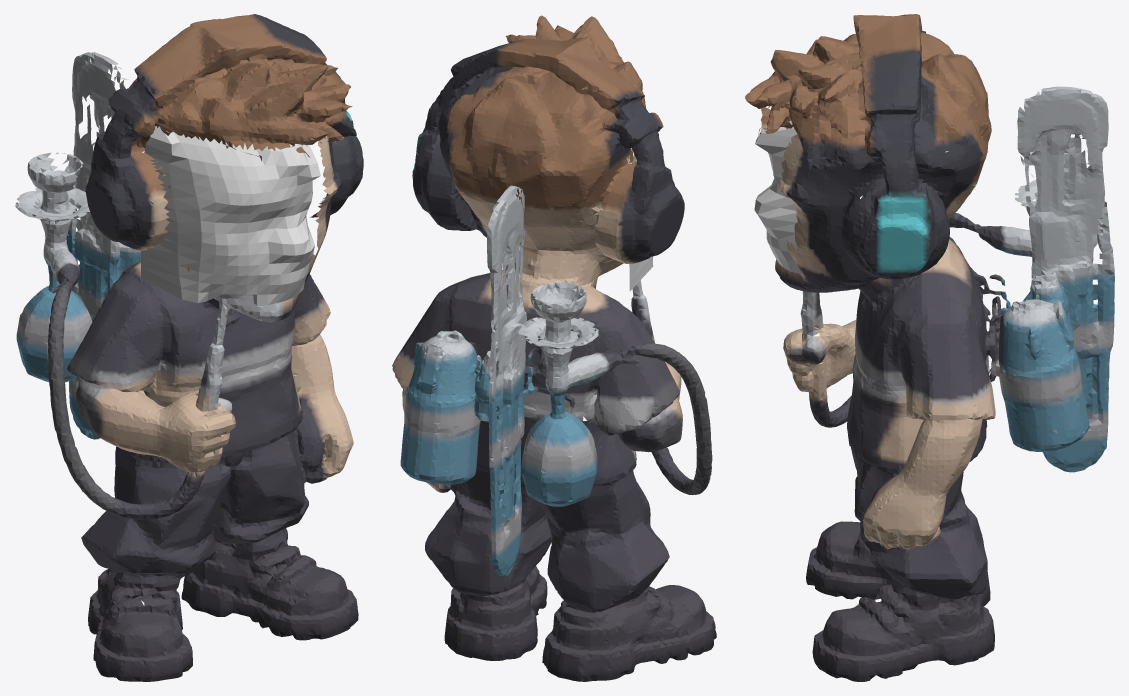
File: yarik.glb
3 views of the same model, side by side, from view 1: azimuth 30°, elevation 25°; view 2: azimuth 150°, elevation 25°; view 3: azimuth 270°, elevation 25° (orthographic). The views are drawn at different scales.
Visible parts, largest first — view 1: torso, head, face, legL, legR, armR; view 2: head, torso, legL, legR, armR; view 3: head, torso, armR, legR, legL, face.
Part boxes in pixels (x1,y1,x2,y2): torso: [15, 161, 319, 493]; head: [16, 14, 363, 315]; face: [141, 126, 320, 304]; legL: [27, 372, 236, 681]; legR: [181, 397, 358, 640]; armR: [271, 267, 353, 530]; head: [412, 15, 684, 371]; torso: [400, 228, 712, 540]; legL: [490, 436, 716, 681]; legR: [402, 434, 554, 660]; armR: [392, 274, 489, 571]; head: [745, 14, 1112, 302]; torso: [775, 180, 1114, 478]; armR: [801, 265, 1088, 587]; legR: [812, 400, 1089, 681]; legL: [793, 367, 1108, 606]; face: [754, 121, 802, 274].
Size of the model in its own units: 1.44 by 2.8 by 1.55.
